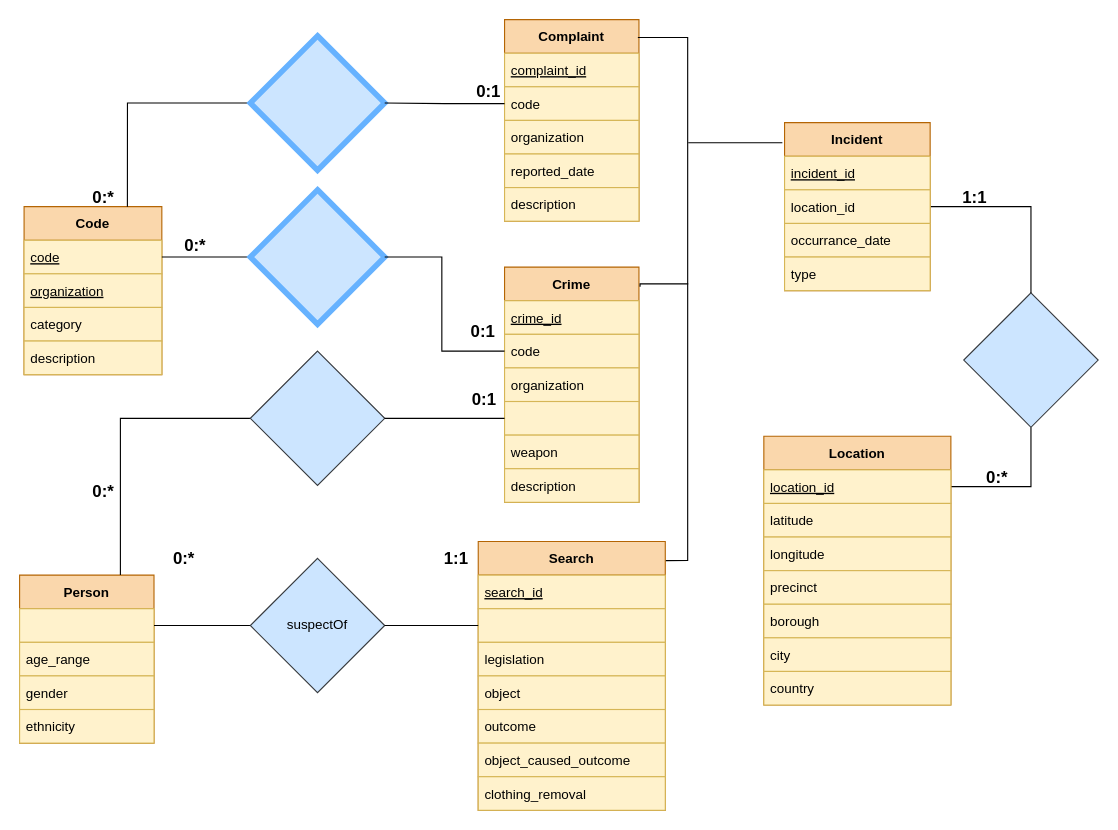
The diagram is 1118 pixels wide and 830 high, and some of its shapes have lost their labels. The shapes that lost their labels are listed below. From the top down, each one's box as (x1, y1, x2, y2) in pixels, then its label:
(247, 32, 387, 172): complaintOfCode
(247, 186, 387, 326): crimeOfCode
(963, 292, 1098, 427): happensIn
(249, 350, 385, 486): victimOf
(503, 400, 639, 435): victim_id
(18, 608, 154, 642): person_id
(477, 608, 665, 642): suspect_id
